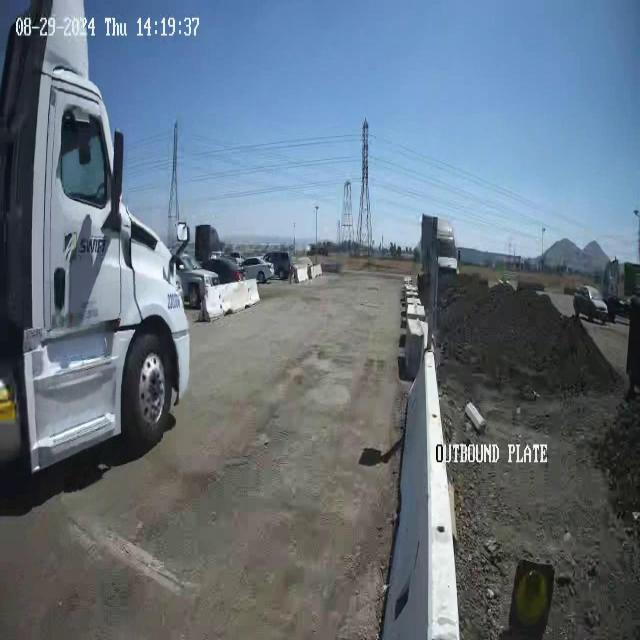TRUCK_IN: (1, 2, 191, 478)
